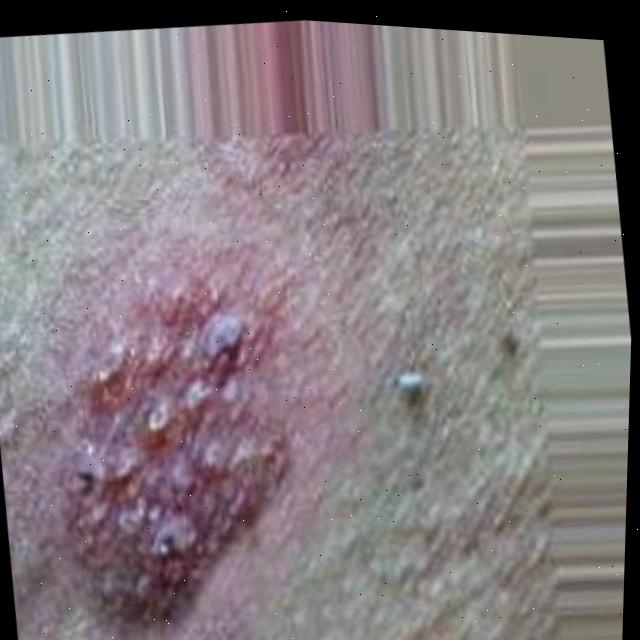Shingles: (47, 274, 296, 624)
